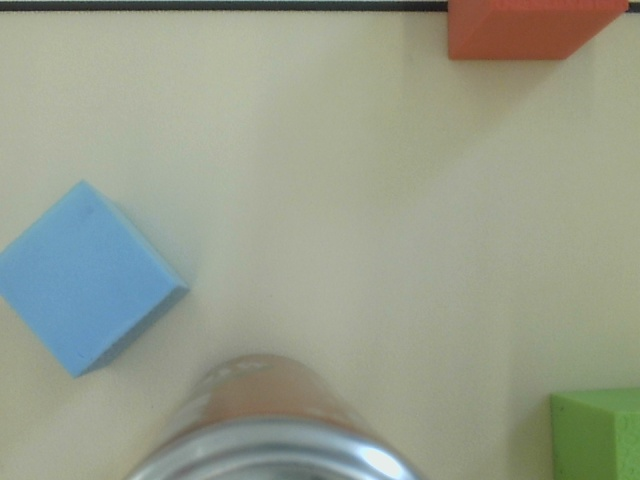bluecube: (1, 173, 194, 387)
cola: (123, 354, 418, 480)
greencube: (544, 385, 640, 480)
redcube: (432, 1, 630, 70)
